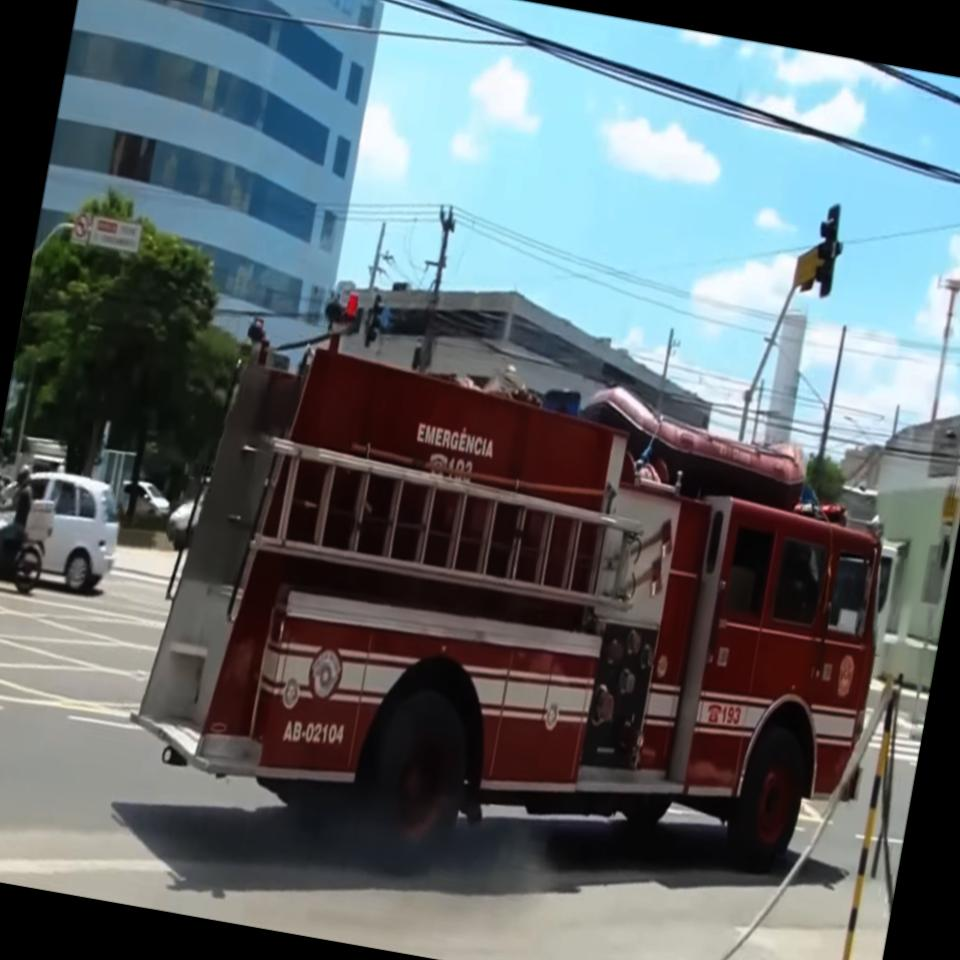viatura: (111, 263, 930, 952)
